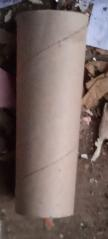paper: (14, 9, 90, 219), (76, 1, 108, 52)
